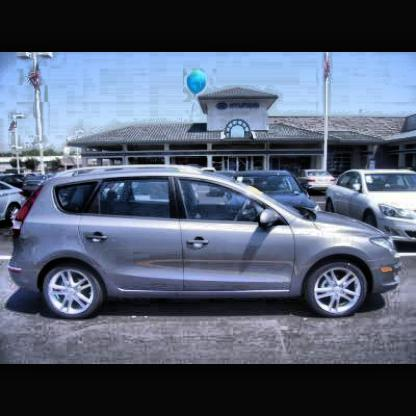Hyundai Elantra Touring Hatchback 2012: (10, 168, 404, 320)
